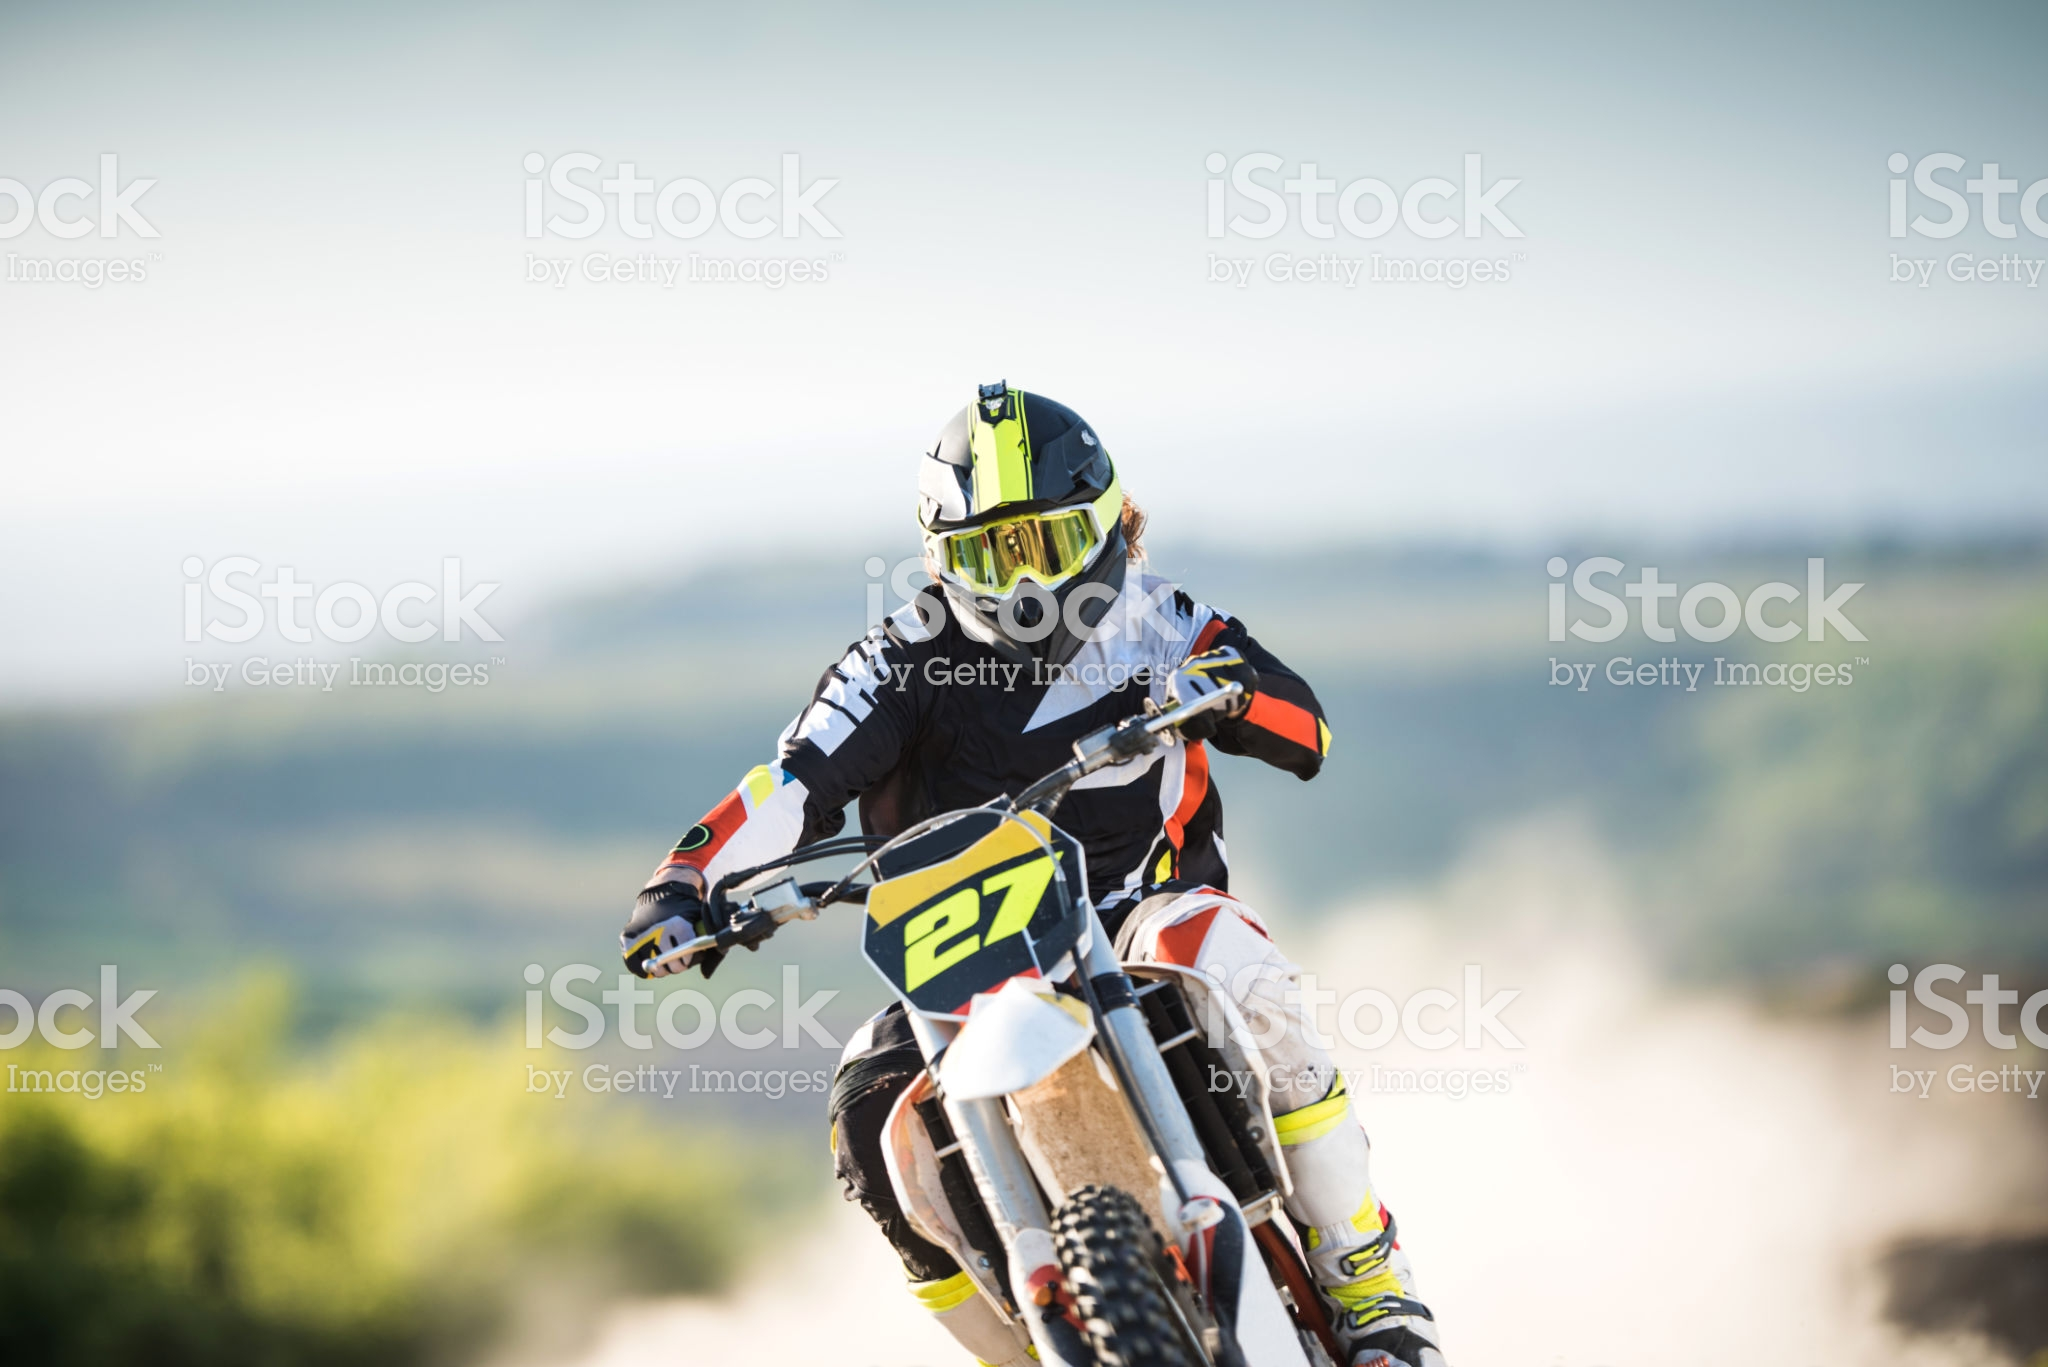helmet: (897, 395, 1150, 626)
